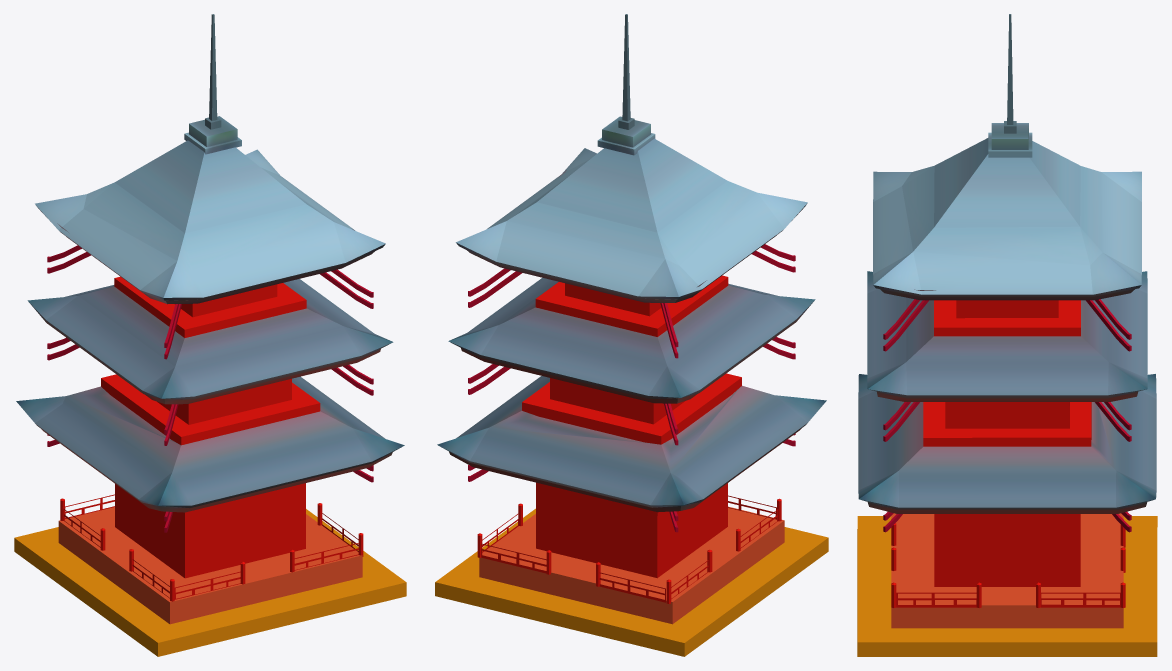
The model's file is Kiomizu.fbx.
The picture shows the model from 3 angles, left to right: view 1: azimuth 30°, elevation 25°; view 2: azimuth 150°, elevation 25°; view 3: azimuth 270°, elevation 25°; orthographic projection. The views are drawn at different scales.
Parts seen in each view (by area): view 1: part.011, part.012, Part, part.010, part.013; view 2: part.011, part.012, Part, part.010, part.013; view 3: part.011, part.012, Part, part.010, part.013.
Part boxes in pixels (x1,y1,x2,y2): part.011: (14, 140, 406, 656); part.012: (47, 245, 373, 532); Part: (184, 14, 241, 154); part.010: (63, 494, 358, 599); part.013: (60, 498, 363, 601); part.011: (435, 138, 828, 656); part.012: (468, 244, 795, 532); Part: (597, 14, 655, 155); part.010: (481, 495, 778, 602); part.013: (477, 498, 781, 603); part.011: (857, 138, 1157, 656); part.012: (883, 299, 1131, 532); Part: (988, 14, 1032, 157); part.010: (896, 592, 1120, 607); part.013: (891, 523, 1125, 607).
Size of the model in its own units: 1085 by 2322 by 1086.
Materials: 5 (2 with a texture image).
